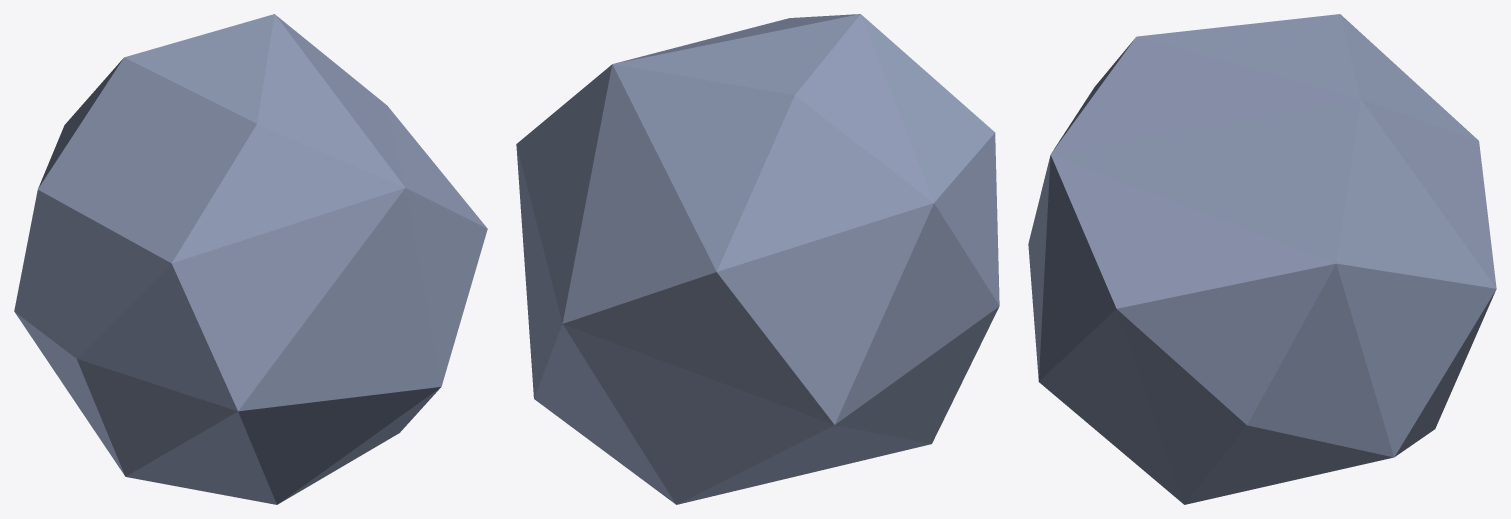
File: astroid.fbx
3 views of the same model, side by side, from view 1: azimuth 30°, elevation 25°; view 2: azimuth 150°, elevation 25°; view 3: azimuth 270°, elevation 25° (orthographic). The views are drawn at different scales.
Parts seen in each view (by area): view 1: Cube; view 2: Cube; view 3: Cube.
Boxes of the visible parts, x1=… form: Cube: x1=14, y1=14, x2=487, y2=504; Cube: x1=516, y1=14, x2=999, y2=504; Cube: x1=1028, y1=14, x2=1496, y2=504.
Size of the model in its own units: 155 by 150 by 152.
